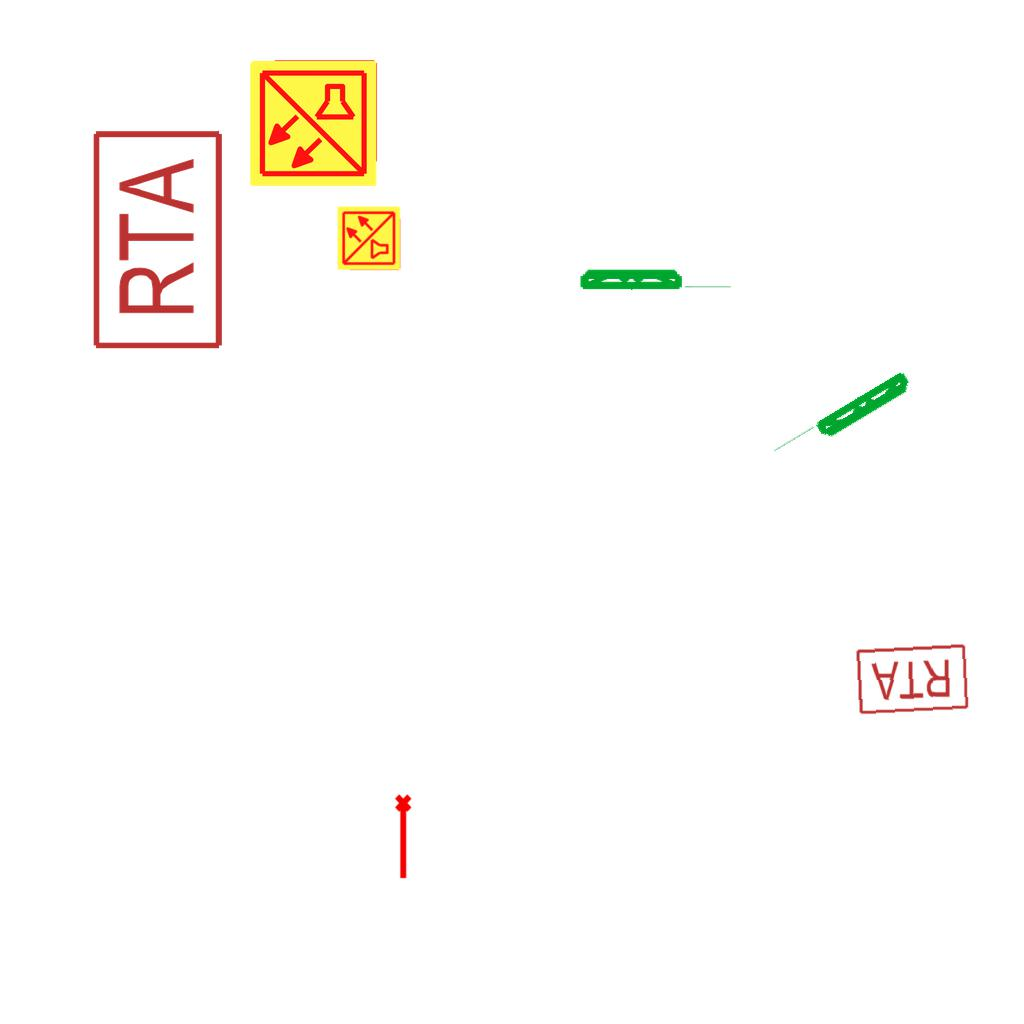ASR_Ansaugoeffnung: (393, 793, 416, 881)
OKW_Multisensormelder_(Kombination_optischer_Rauch-Kahlenmonoxid_Waerme-Melder): (247, 57, 379, 189), (336, 205, 402, 271)
Ruf-und_Abstelltaster: (89, 128, 227, 356), (854, 641, 973, 717)
Sicherheitsleuchte_Wandeinbau: (767, 367, 918, 472), (577, 266, 736, 291)
